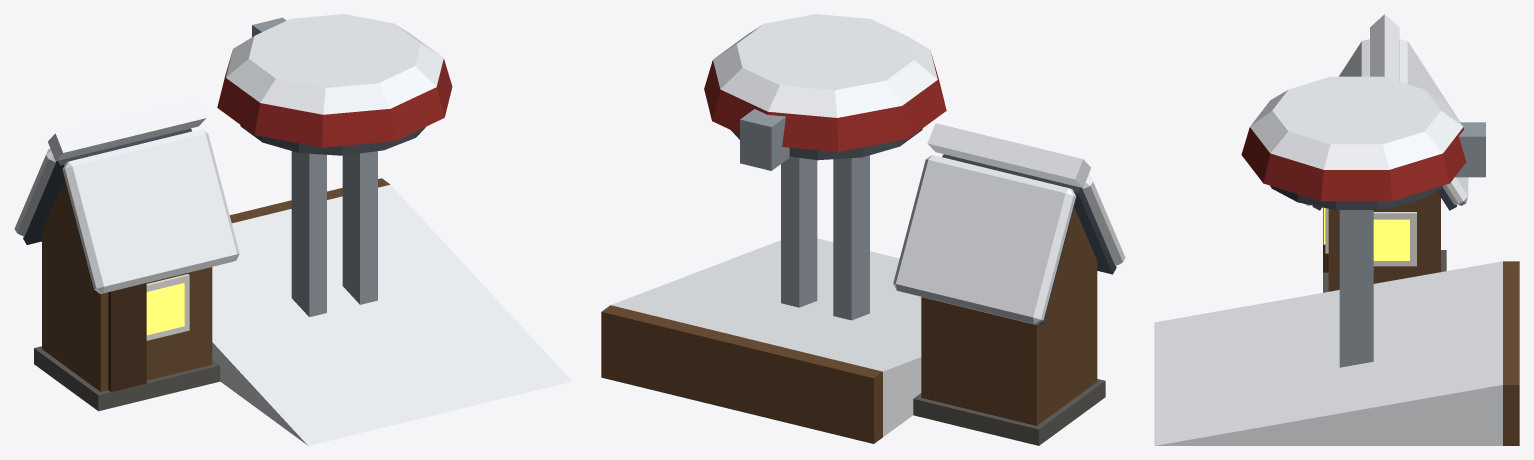
Rendered from lift-terminal-top.glb.
3 renders of one model, left to right at view 1: azimuth 30°, elevation 25°; view 2: azimuth 150°, elevation 25°; view 3: azimuth 270°, elevation 25°, orthographic. The views are drawn at different scales.
Visible parts, largest first — view 1: lift-terminal-top; view 2: lift-terminal-top; view 3: lift-terminal-top.
Part boxes in pixels (x1,y1,x2,y2): lift-terminal-top: [14, 14, 572, 445]; lift-terminal-top: [601, 14, 1125, 445]; lift-terminal-top: [1154, 14, 1519, 445].
Size of the model in its own units: 7.81 by 5.37 by 6.5.
